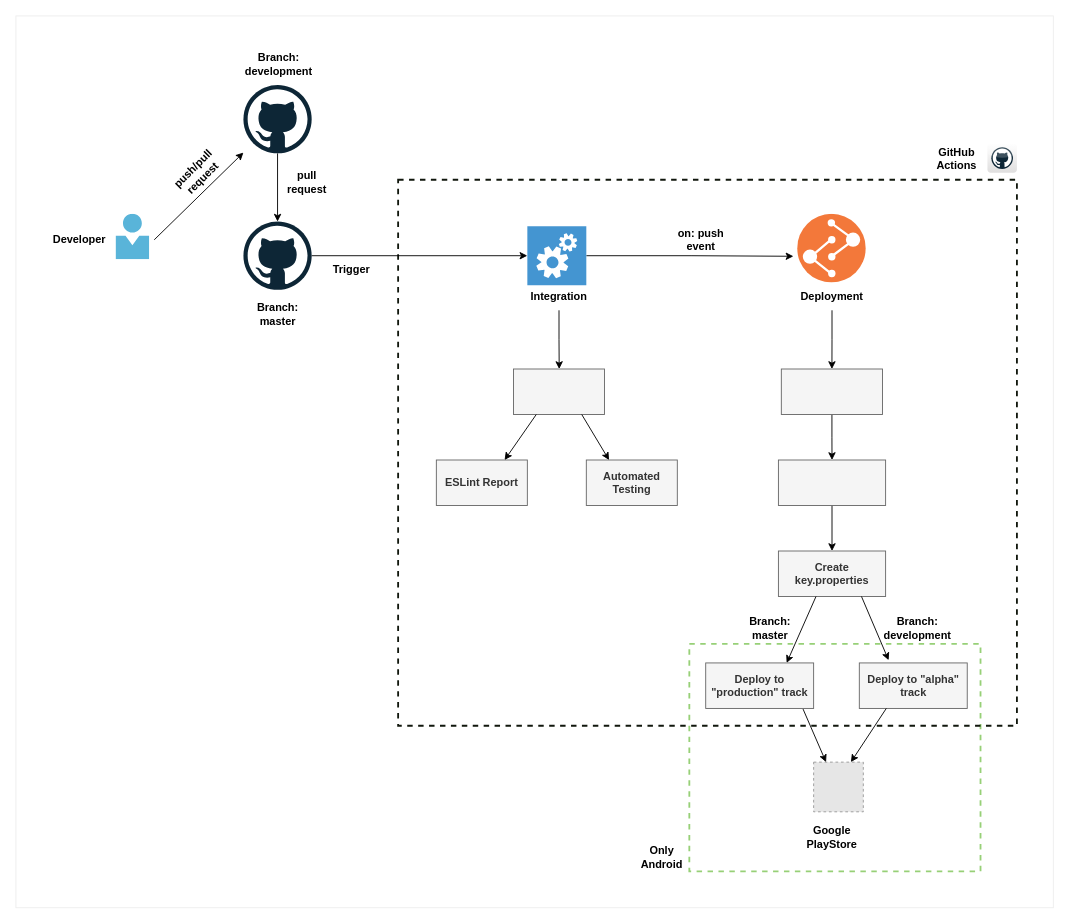
Some shapes in this 1069 by 924 pixel diagram are drawn without their labels. Grey dashed boxes stand in for pictures. The shapes that lost their labels are listed below. From the top down, each one's box as (x1, y1, x2, y2) in pixels, then its label:
(513, 368, 605, 415): Paralell Jobs
(780, 368, 883, 415): Decrypt and restore keystore
(778, 459, 886, 506): Decrypt and restore service-account
